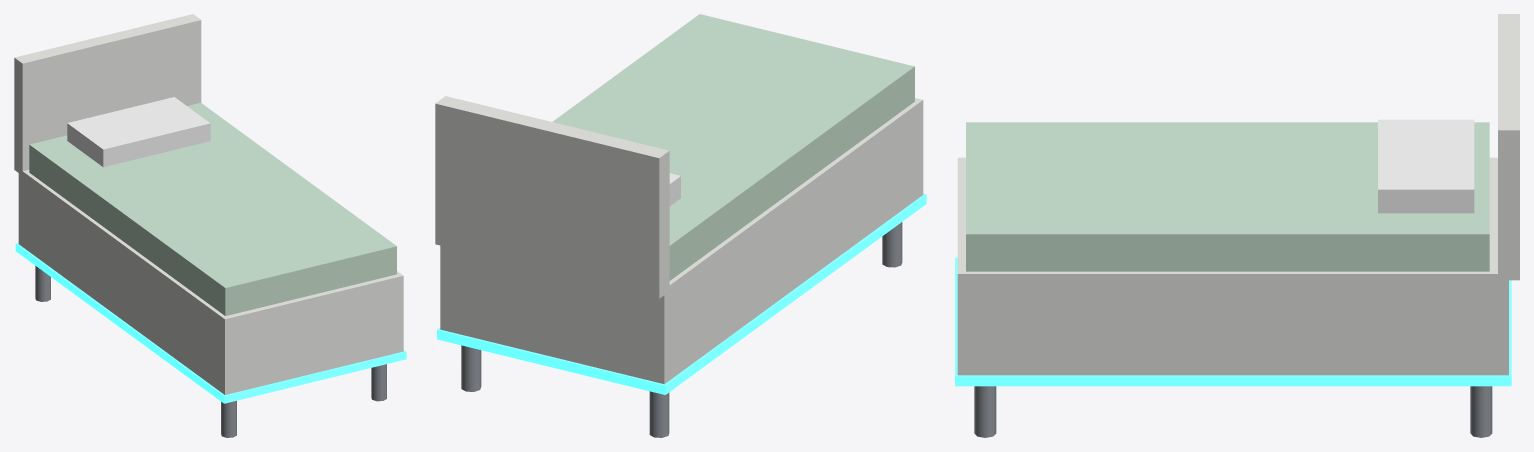
Rendered from hospital_bed.glb.
3 renders of one model, left to right at view 1: azimuth 30°, elevation 25°; view 2: azimuth 150°, elevation 25°; view 3: azimuth 270°, elevation 25°, orthographic. The views are drawn at different scales.
Parts seen in each view (by area): view 1: hospital_bed; view 2: hospital_bed; view 3: hospital_bed.
Boxes of the visible parts, x1,y1,x2,y2 form: hospital_bed: [14, 14, 406, 437]; hospital_bed: [435, 14, 926, 437]; hospital_bed: [955, 14, 1519, 437].
Size of the model in its own units: 1.02 by 1.25 by 2.05.
